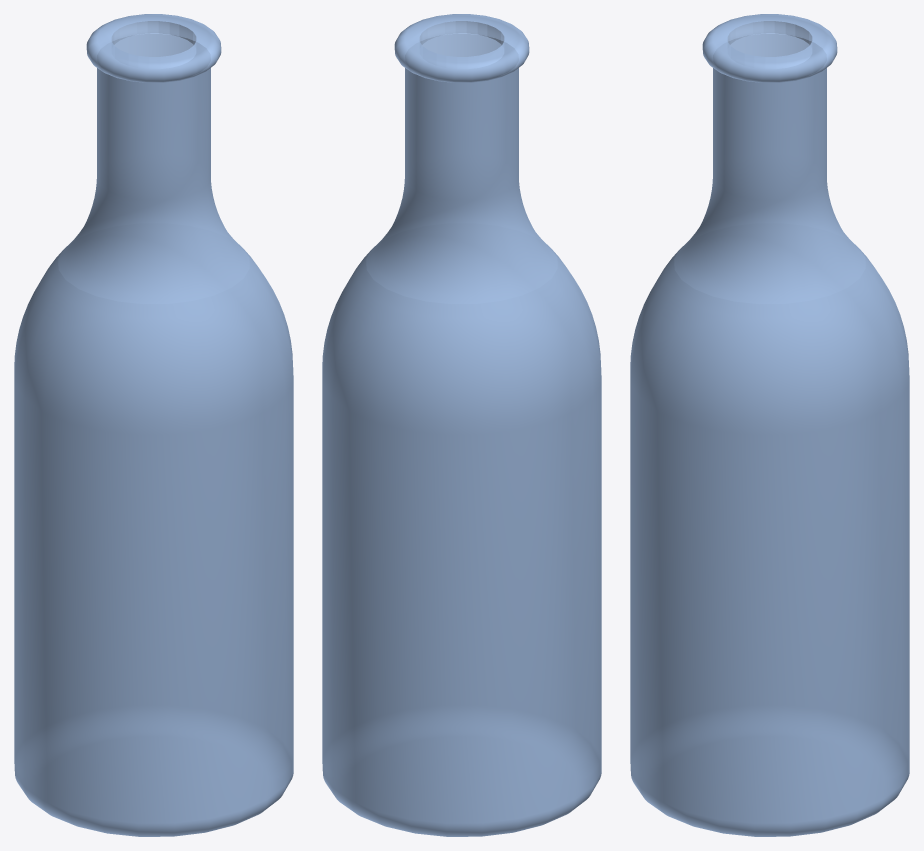
The model's file is GlassBottle.001.dae.
3 renders of one model, left to right at view 1: azimuth 30°, elevation 25°; view 2: azimuth 150°, elevation 25°; view 3: azimuth 270°, elevation 25°, orthographic.
Visible parts, largest first — view 1: GlassBottle_col; view 2: GlassBottle_col; view 3: GlassBottle_col.
Part boxes in pixels (x1,y1,x2,y2): GlassBottle_col: (14,14,293,836); GlassBottle_col: (322,14,601,836); GlassBottle_col: (630,14,909,836).
Size of the model in its own units: 0.0645 by 0.0645 by 0.19.
